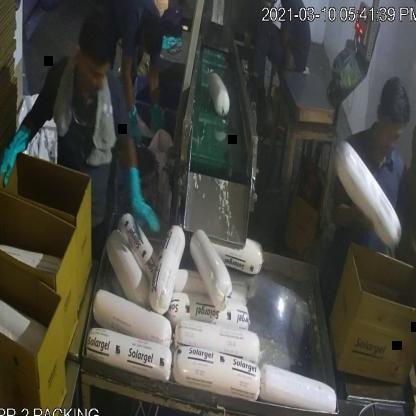glove: (120, 158, 167, 264), (0, 117, 34, 190)
no_glove: (321, 195, 384, 249), (400, 203, 416, 304)
